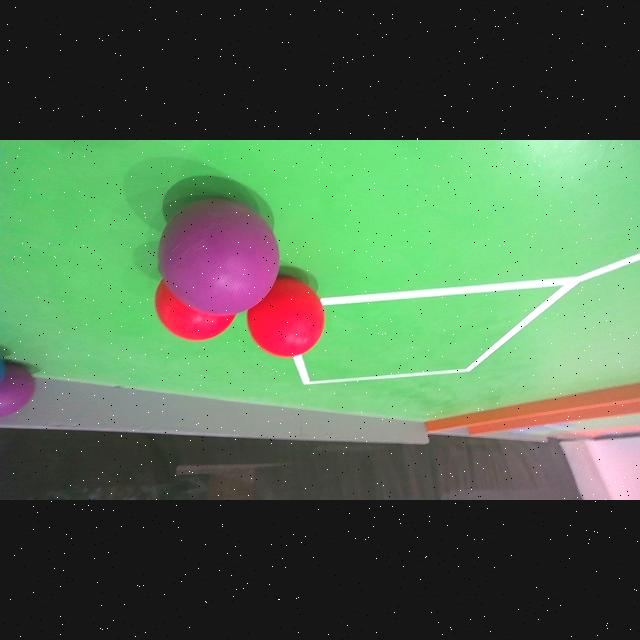P: (157, 198, 279, 316)
R: (247, 278, 325, 356), (155, 270, 237, 340)
